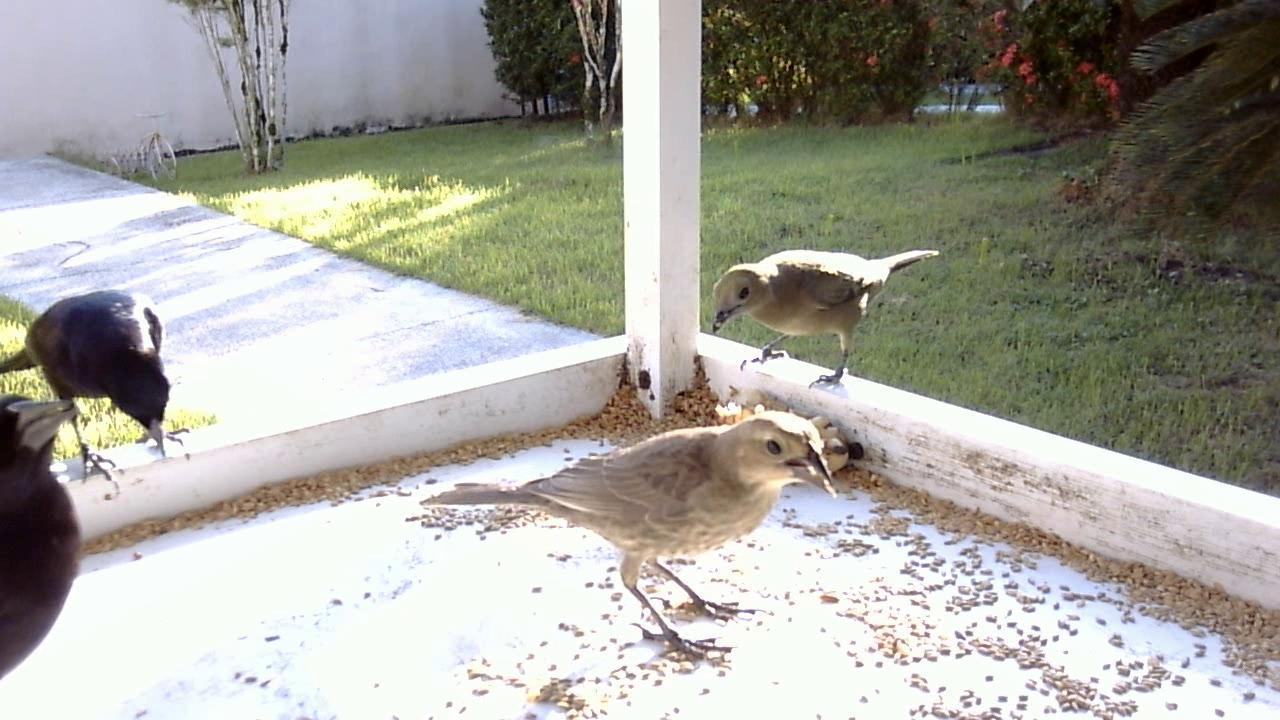chupim: (413, 408, 843, 668), (4, 274, 201, 504), (3, 395, 110, 677)
sanhaco_do_coqueiro: (707, 242, 945, 397)
